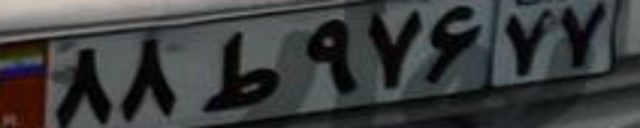6: (423, 4, 483, 84)
7: (366, 9, 422, 89), (500, 9, 554, 76), (561, 1, 608, 69)
8: (120, 38, 180, 117), (53, 48, 114, 125)
9: (302, 17, 360, 94)
taa: (200, 32, 283, 112)
